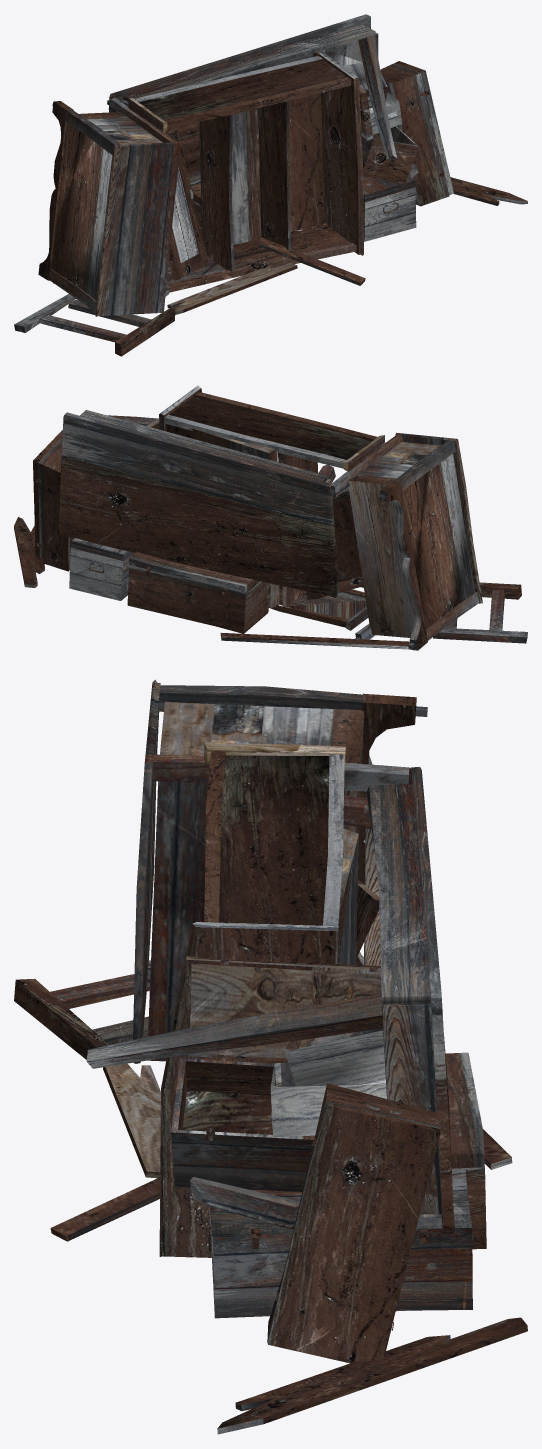
File: sheet_wood_rustic_01.glb
The picture shows the model from 3 angles, top to bottom: view 1: azimuth 30°, elevation 25°; view 2: azimuth 150°, elevation 25°; view 3: azimuth 270°, elevation 25°; orthographic projection. The views are drawn at different scales.
Visible parts, largest first — view 1: Object_2; view 2: Object_2; view 3: Object_2.
Part boxes in pixels (bbox=[...]): Object_2: bbox=[14, 14, 527, 356]; Object_2: bbox=[14, 385, 527, 650]; Object_2: bbox=[14, 679, 527, 1434].
Bounding box in the file's own units: 359 × 119 × 158.
Materials: 1 (1 with a texture image).
